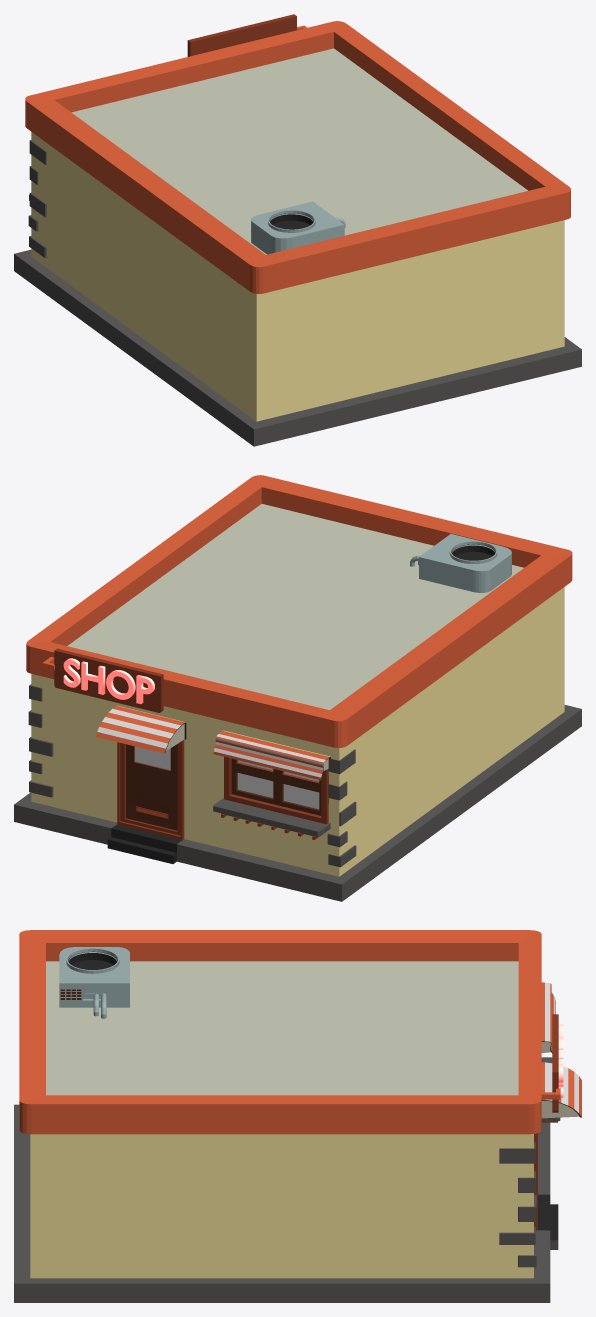
File: shop-general-brick_night.glb
The picture shows the model from 3 angles, top to bottom: view 1: azimuth 30°, elevation 25°; view 2: azimuth 150°, elevation 25°; view 3: azimuth 270°, elevation 25°; orthographic projection. The views are drawn at different scales.
Parts seen in each view (by area): view 1: Cube; view 2: Cube, sign_0; view 3: Cube.
Boxes of the visible parts, <box> form: Cube: <box>14,14,581,446</box>; Cube: <box>14,475,581,901</box>; sign_0: <box>63,658,154,703</box>; Cube: <box>14,930,581,1302</box>.
Size of the model in its own units: 3.89 by 2.1 by 5.23.
